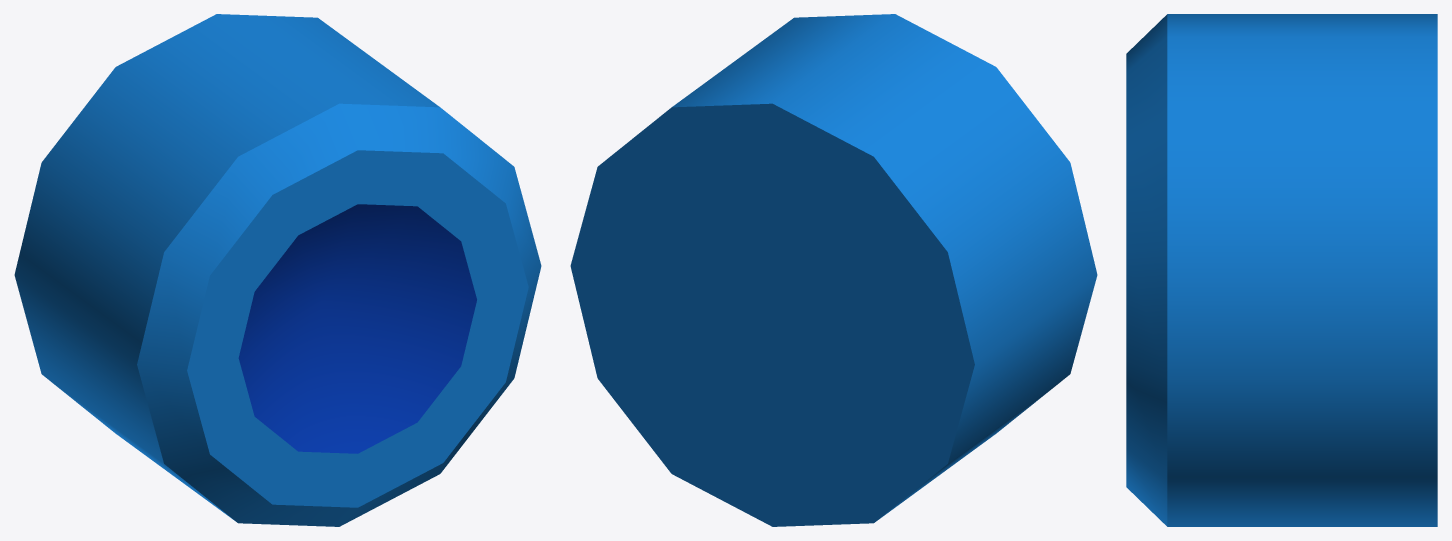
File: Rotator_01.glb
The picture shows the model from 3 angles, left to right: view 1: azimuth 30°, elevation 25°; view 2: azimuth 150°, elevation 25°; view 3: azimuth 270°, elevation 25°; orthographic projection. The views are drawn at different scales.
Visible parts, largest first — view 1: Rotator_01; view 2: Rotator_01; view 3: Rotator_01.
Part boxes in pixels (left/top/right/bottom): Rotator_01: left=14, top=14, right=541, bottom=526; Rotator_01: left=570, top=14, right=1097, bottom=526; Rotator_01: left=1126, top=14, right=1437, bottom=526.
Size of the model in its own units: 1.45 by 1.45 by 0.8743.
1 material, 1 textured.
